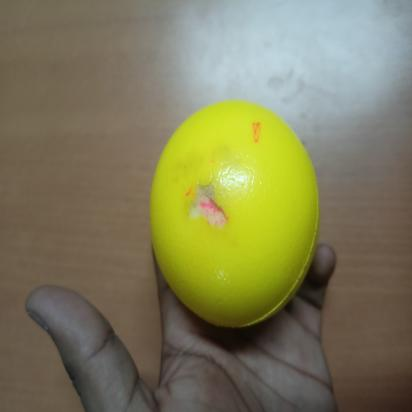Yellowball: (146, 96, 324, 335)
